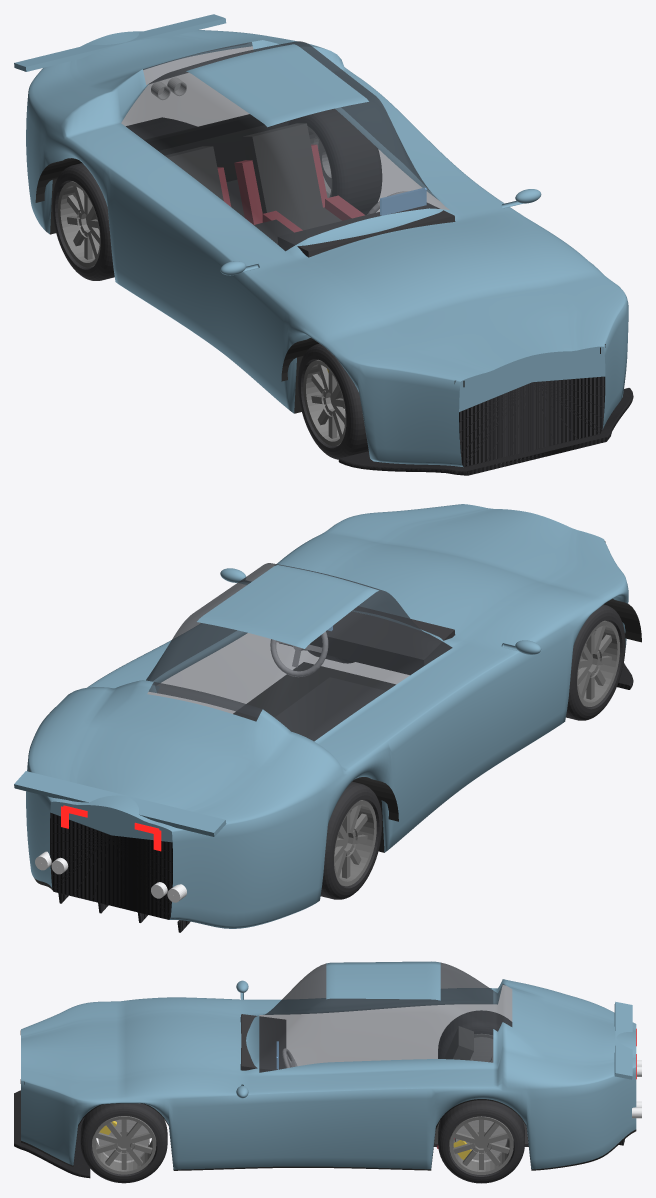
The model's file is bmw-m8-competition.glb.
3 renders of one model, top to bottom at view 1: azimuth 30°, elevation 25°; view 2: azimuth 150°, elevation 25°; view 3: azimuth 270°, elevation 25°, orthographic. The views are drawn at different scales.
Parts seen in each view (by area): view 1: Body_PrimaryPaint, Glass_Windows, Carbon_Exterior, Interior_Seats, Tire_RL, Underbody, Tire_FR, Tire_RR, Interior_SeatBolsters, Rim_FR, Rim_RR, Interior_Dashboard (+3 smaller); view 2: Body_PrimaryPaint, Glass_Windows, Carbon_Exterior, Interior_Dashboard, WheelWells, Body_Spoiler, Interior_Tub, Rim_FR, Rim_RR, Tire_RR, Tire_FR, Chrome_Trim (+2 smaller); view 3: Body_PrimaryPaint, Glass_Windows, Tire_RL, Tire_FL, Rim_FL, Rim_RL, Interior_Dashboard, Tire_RR, Carbon_Exterior, Underbody, Body_Spoiler, Interior_Seats (+3 smaller).
Part boxes in pixels (x1,y1,x2,y2): Body_PrimaryPaint: (26,30,628,467); Glass_Windows: (121,41,449,250); Carbon_Exterior: (126,117,633,475); Interior_Seats: (165,123,341,230); Tire_RL: (288,108,382,214); Underbody: (50,114,311,413); Tire_FR: (298,343,368,459); Tire_RR: (52,163,114,280); Interior_SeatBolsters: (217,144,364,232); Rim_FR: (303,359,346,446); Rim_RR: (57,181,100,267); Interior_Dashboard: (277,203,455,257); Body_PrimaryPaint: (26,504,628,928); Glass_Windows: (146,563,452,741); Carbon_Exterior: (50,663,633,932); Interior_Dashboard: (279,606,455,674); WheelWells: (233,599,641,821); Body_Spoiler: (14,771,226,836); Interior_Tub: (275,677,385,734); Rim_FR: (577,620,619,706); Rim_RR: (334,800,376,886); Tire_RR: (320,781,382,899); Tire_FR: (566,604,625,720); Chrome_Trim: (35,851,186,902); Body_PrimaryPaint: (21,961,636,1169); Glass_Windows: (259,962,512,1072); Tire_RL: (438,1100,524,1183); Tire_FL: (80,1103,167,1183); Rim_FL: (92,1116,156,1174); Rim_RL: (449,1116,513,1174); Interior_Dashboard: (240,1014,286,1072); Tire_RR: (438,1010,512,1058); Carbon_Exterior: (14,1090,624,1178); Underbody: (21,1099,636,1170); Body_Spoiler: (614,1001,632,1079); Interior_Seats: (434,1026,473,1147).
Bounding box in the file's own units: 2.13 × 1.36 × 4.97.
16 materials, 2 textured.
